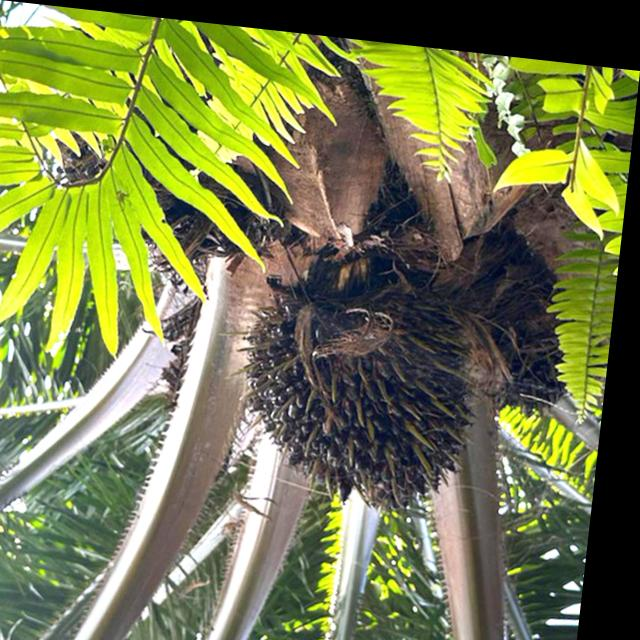almost: (204, 252, 503, 520)
